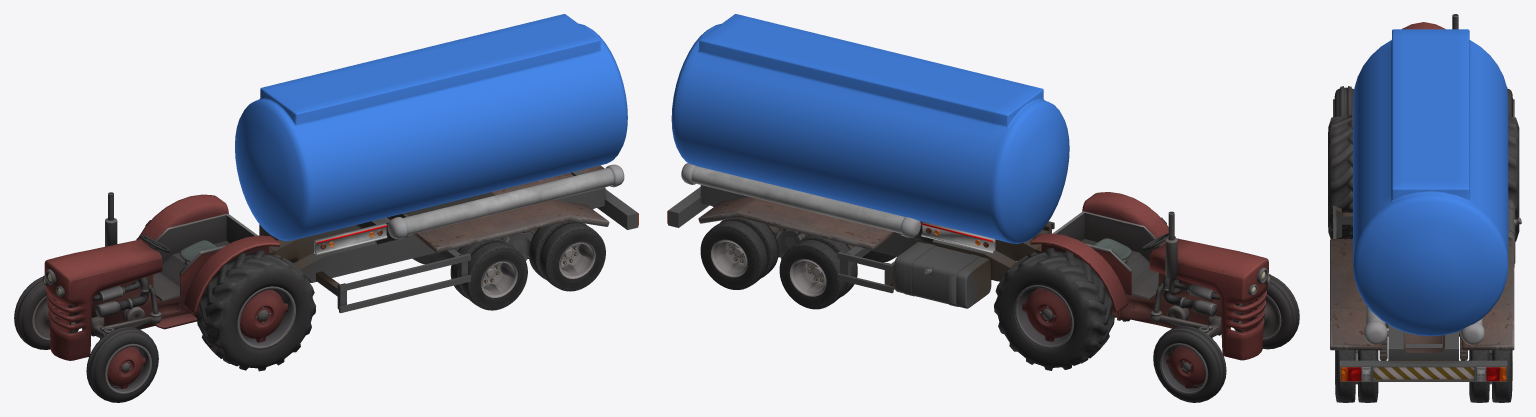
The model's file is fuel truck fbx.fbx.
3 renders of one model, left to right at view 1: azimuth 30°, elevation 25°; view 2: azimuth 150°, elevation 25°; view 3: azimuth 270°, elevation 25°, orthographic. The views are drawn at different scales.
Parts seen in each view (by area): view 1: Cube.002__0, Wheel_BBL_Tire_0.001; view 2: Cube.002__0, Wheel_BBL_Tire_0.001; view 3: Cube.002__0, Wheel_BBL_Tire_0.001.
Boxes of the visible parts, x1,y1,x2,y2 form: Cube.002__0: (235, 14, 627, 255); Wheel_BBL_Tire_0.001: (14, 170, 638, 402); Cube.002__0: (671, 14, 1069, 253); Wheel_BBL_Tire_0.001: (667, 185, 1299, 402); Cube.002__0: (1330, 29, 1514, 352); Wheel_BBL_Tire_0.001: (1328, 14, 1521, 402).
Bounding box in the file's own units: 1731 × 655 × 479.
